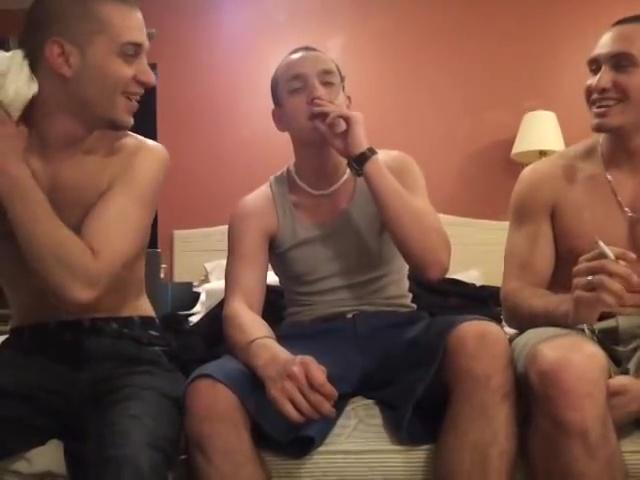cigarette: (594, 236, 621, 264)
